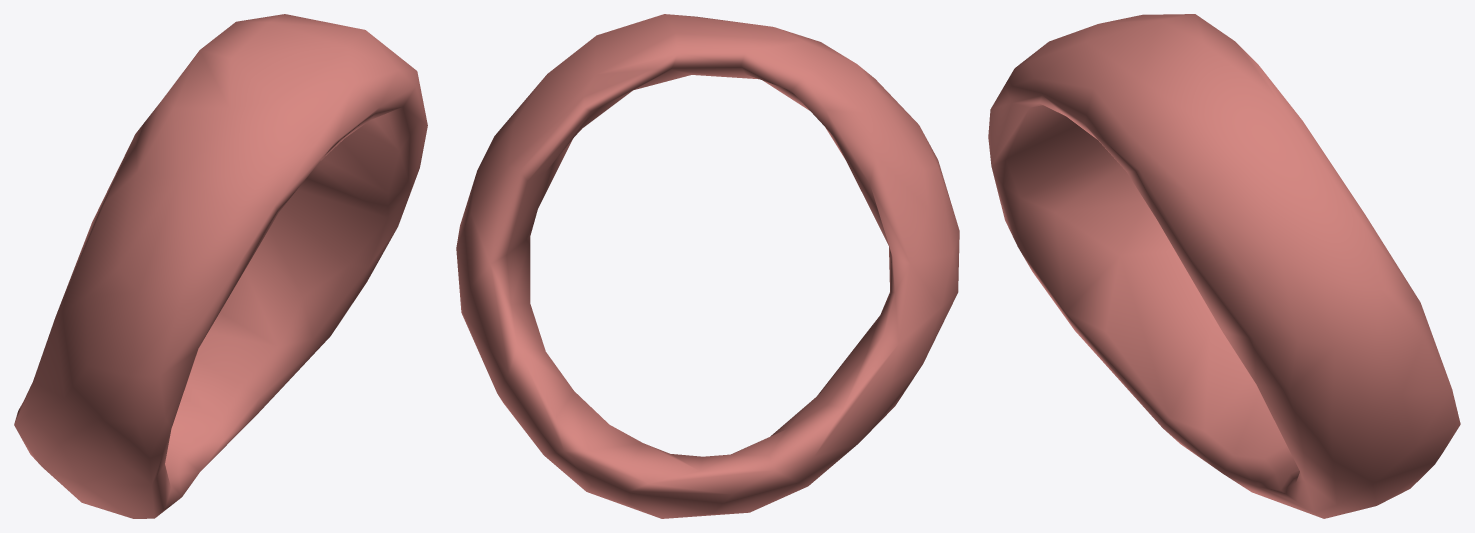
The picture shows the model from 3 angles, left to right: view 1: azimuth 30°, elevation 25°; view 2: azimuth 150°, elevation 25°; view 3: azimuth 270°, elevation 25°; orthographic projection. The views are drawn at different scales.
Parts seen in each view (by area): view 1: ZA_299aa828b3db0b8d; view 2: ZA_299aa828b3db0b8d; view 3: ZA_299aa828b3db0b8d.
Boxes of the visible parts, x1=… form: ZA_299aa828b3db0b8d: x1=14, y1=14, x2=427, y2=518; ZA_299aa828b3db0b8d: x1=456, y1=14, x2=959, y2=518; ZA_299aa828b3db0b8d: x1=988, y1=14, x2=1460, y2=518.
Bounding box in the file's own units: 0.00626 × 0.0067 × 0.00584.
